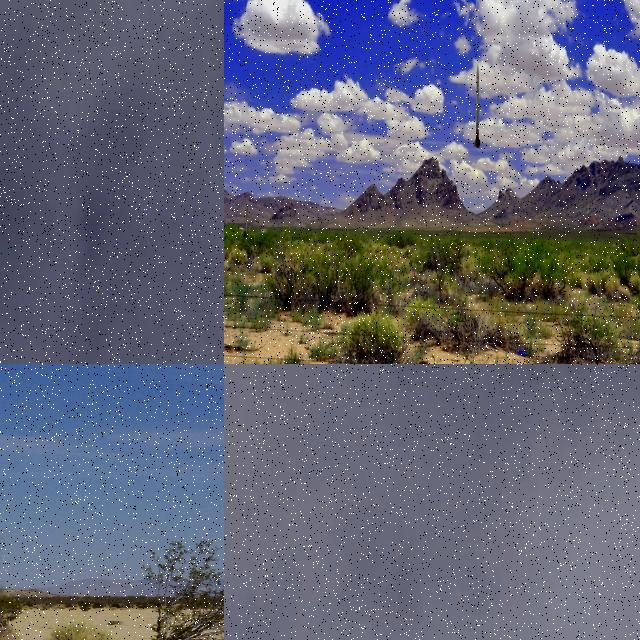Rocket: (474, 63, 480, 149)
